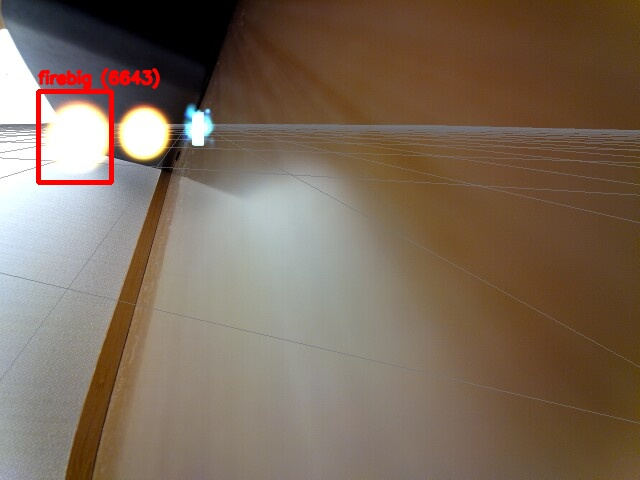firebig: (38, 91, 111, 182)
